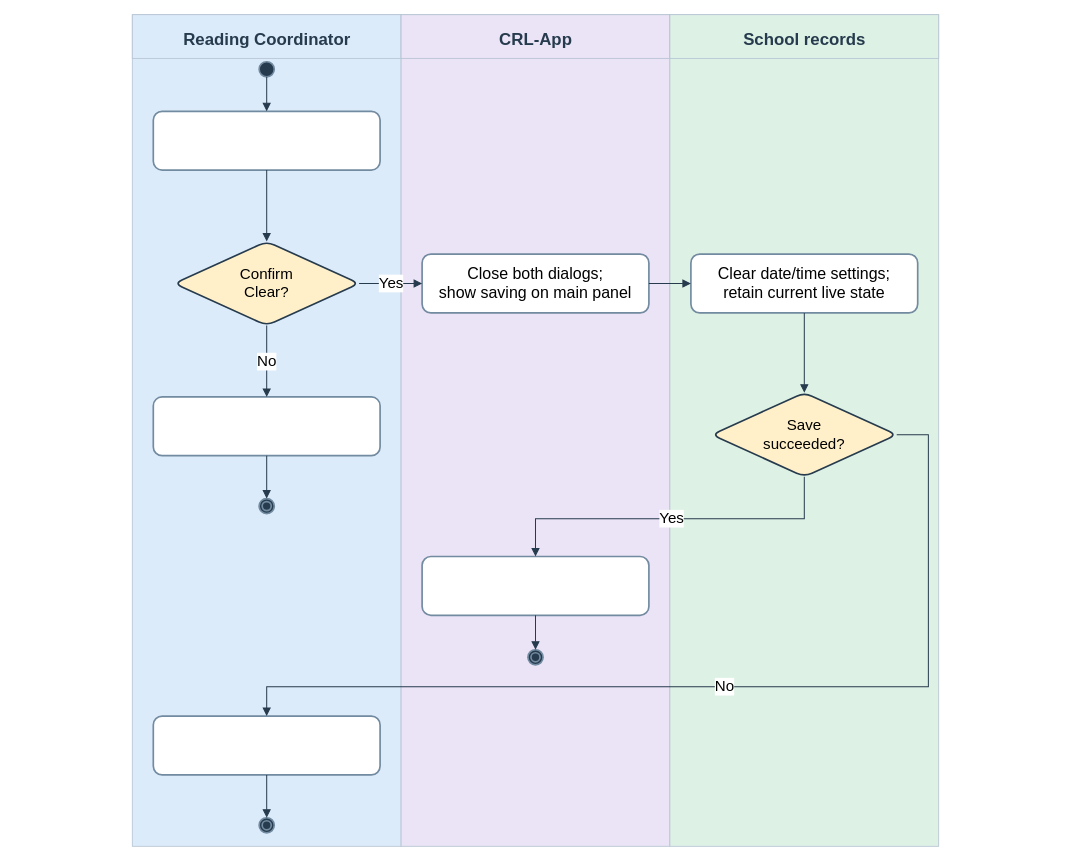
Some shapes in this 1070 by 861 pixel diagram are drawn without their labels. Here are the shapes that lost their labels. From the top down, the centre of each, then its label:
At [266,140]: "Open calendar; press Clear".
At [266,426]: "Keep calendar open; retain date/time draft".
At [535,585]: "Show Dates cleared".
At [266,745]: "Show Okay-only notice; retain saved settings".
